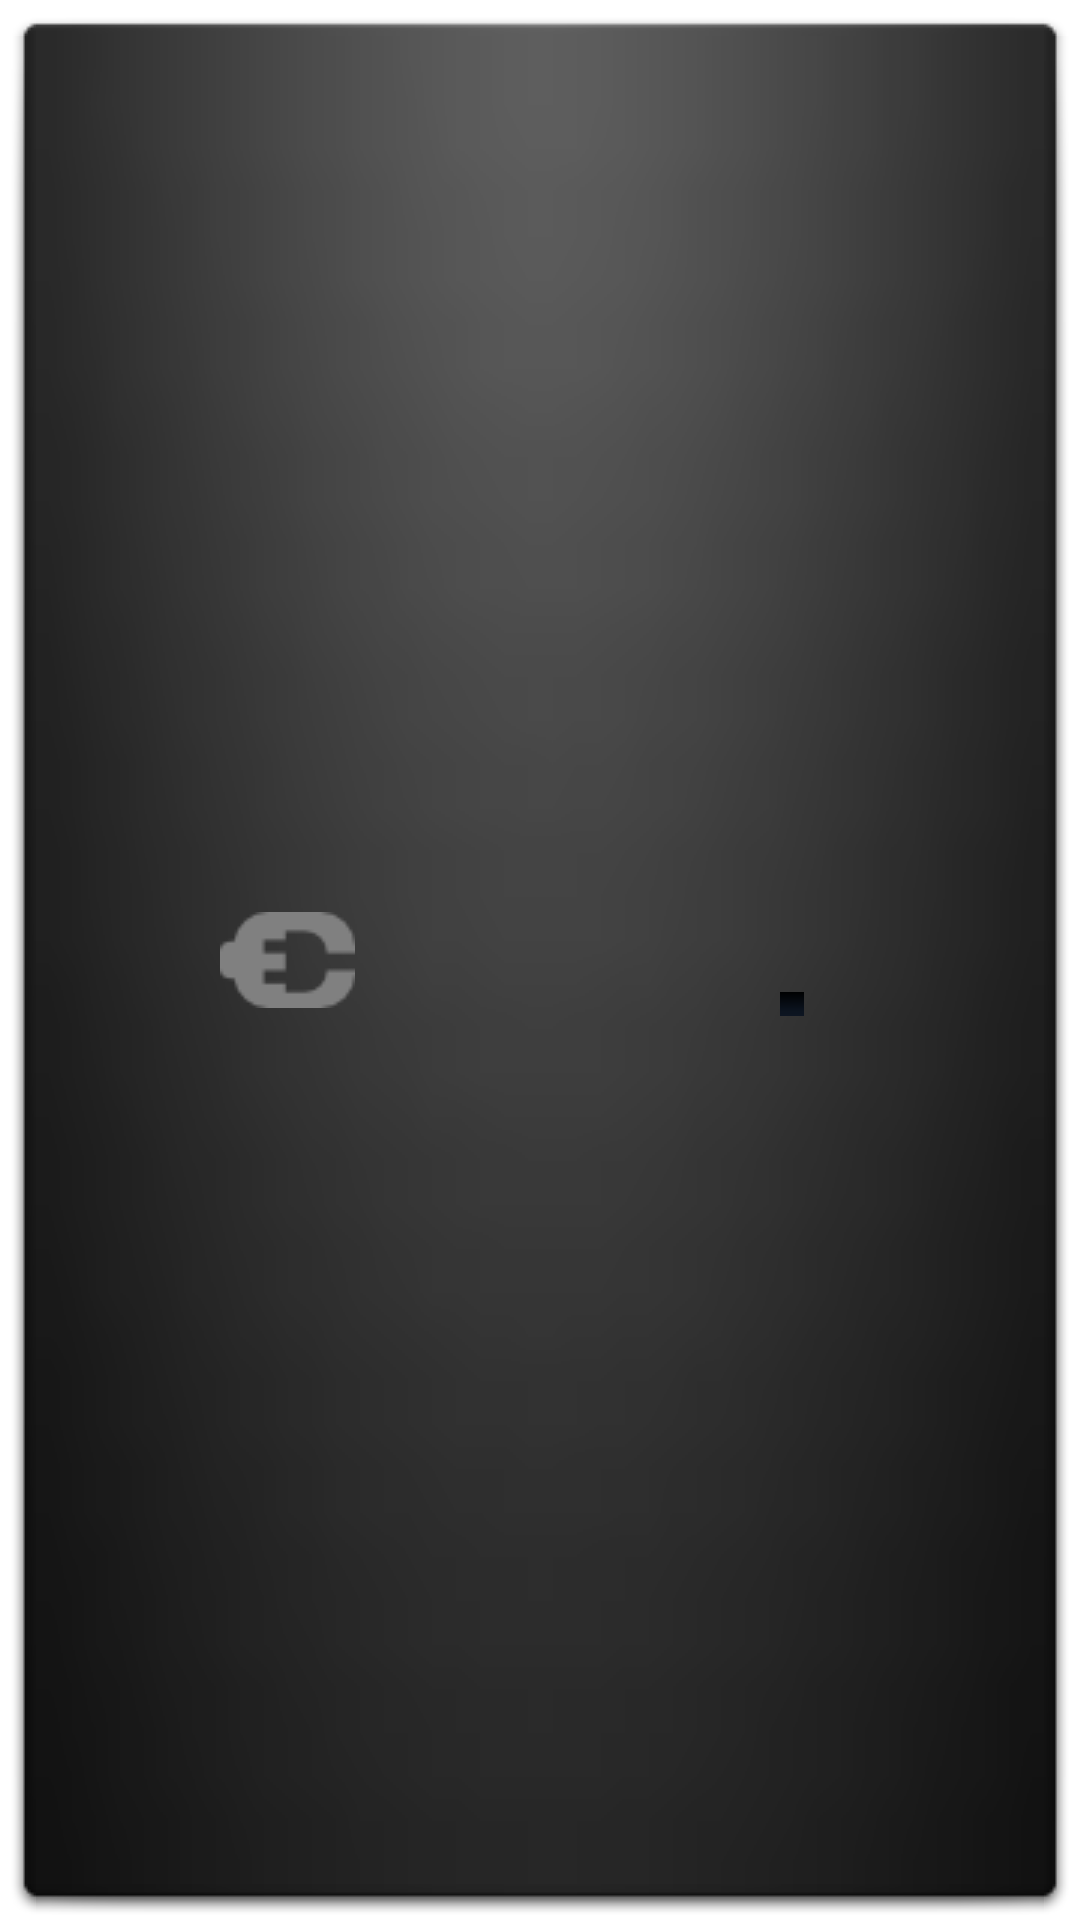

Icon click points for this 1080*1920 phone screenshot, format point (x, y):
charge: point (287, 960)
